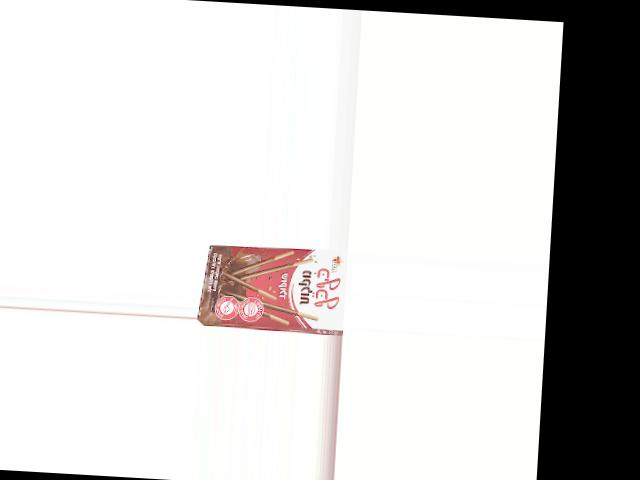chocolate: (206, 242, 347, 334)
